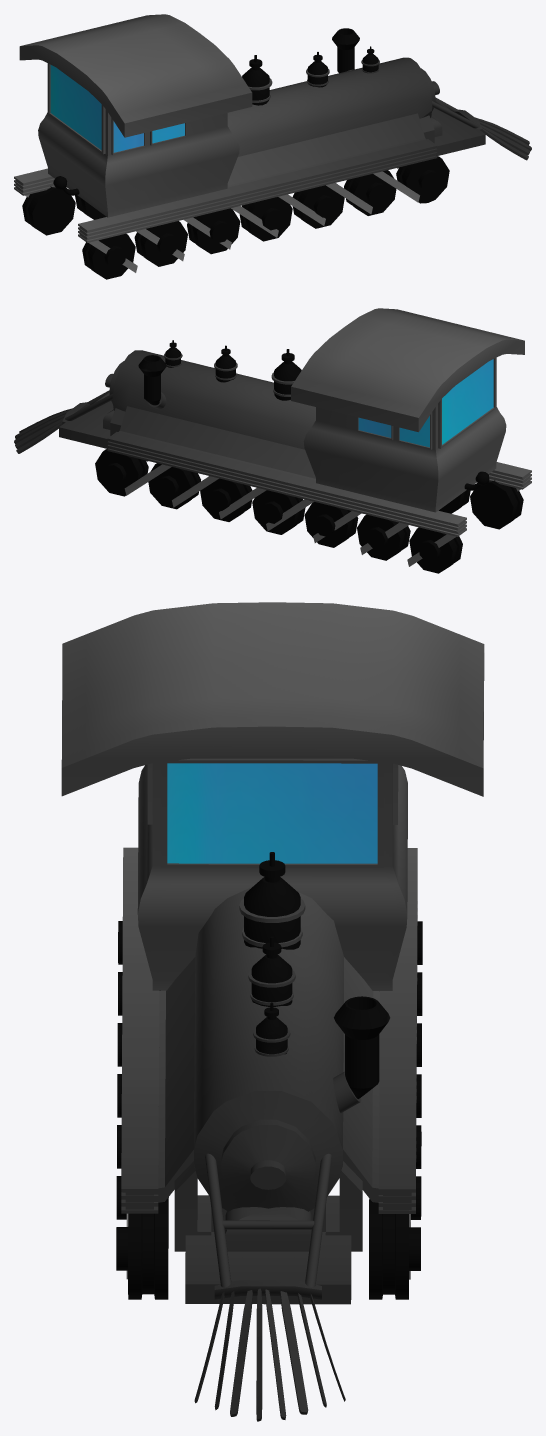
Rendered from Train_1.fbx.
The picture shows the model from 3 angles, top to bottom: view 1: azimuth 30°, elevation 25°; view 2: azimuth 150°, elevation 25°; view 3: azimuth 270°, elevation 25°; orthographic projection. The views are drawn at different scales.
Parts seen in each view (by area): view 1: Train_1; view 2: Train_1; view 3: Train_1.
Part boxes in pixels (x1,y1,x2,y2): Train_1: (14, 14, 531, 279); Train_1: (14, 308, 531, 573); Train_1: (61, 602, 484, 1421).
Bounding box in the file's own units: 1030 × 393 × 395.
Materials: 1 (1 with a texture image).
